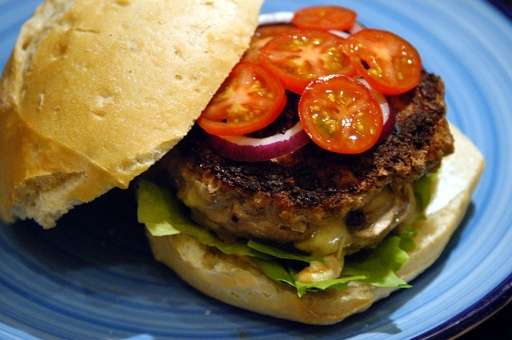background: (0, 0, 389, 173)
